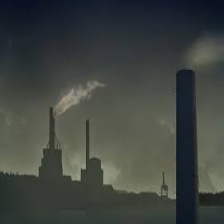smoke: (45, 81, 94, 116), (188, 38, 215, 70)
